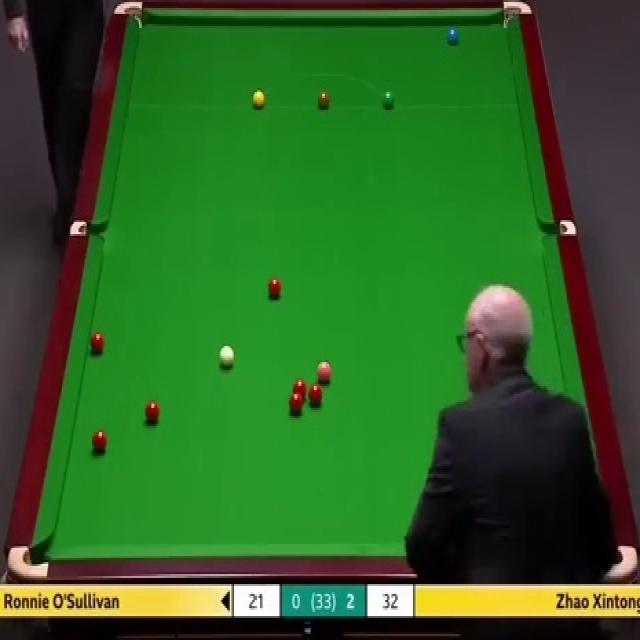pocket: (6, 544, 49, 578), (498, 0, 536, 31), (109, 0, 145, 29), (540, 221, 575, 237), (69, 222, 107, 236)
